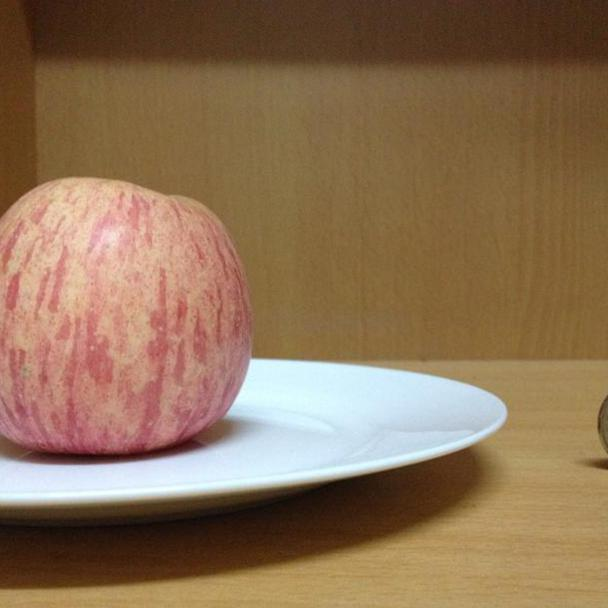apple: (1, 177, 251, 456)
